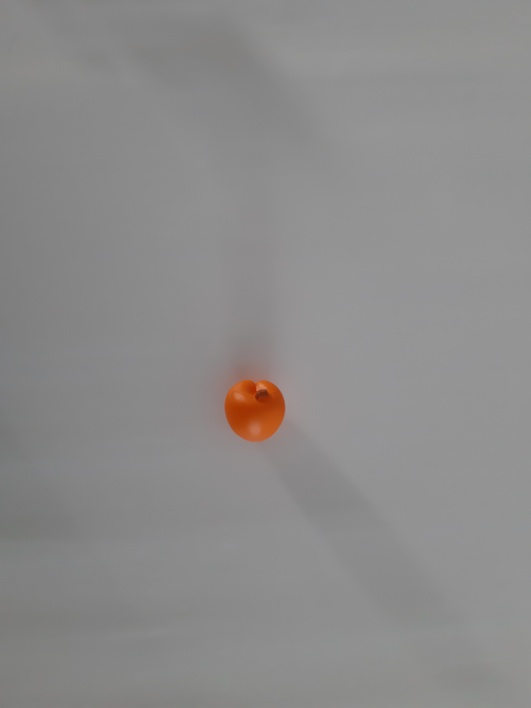apricot: (199, 364, 306, 458)
